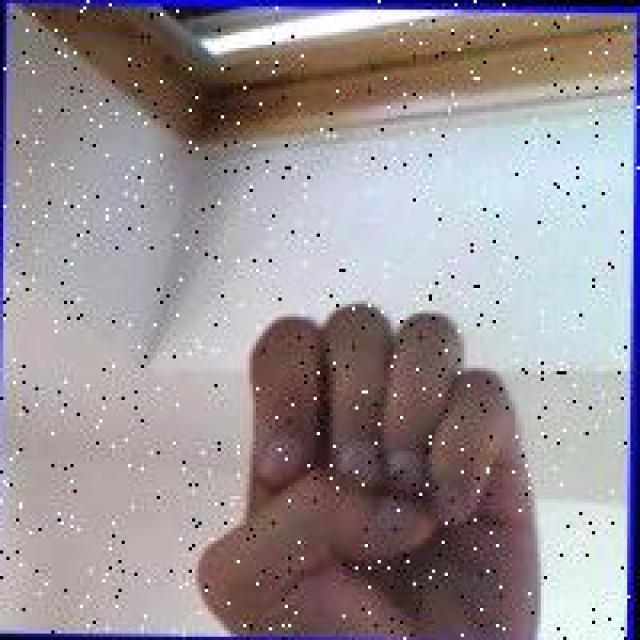E: (195, 294, 554, 637)
